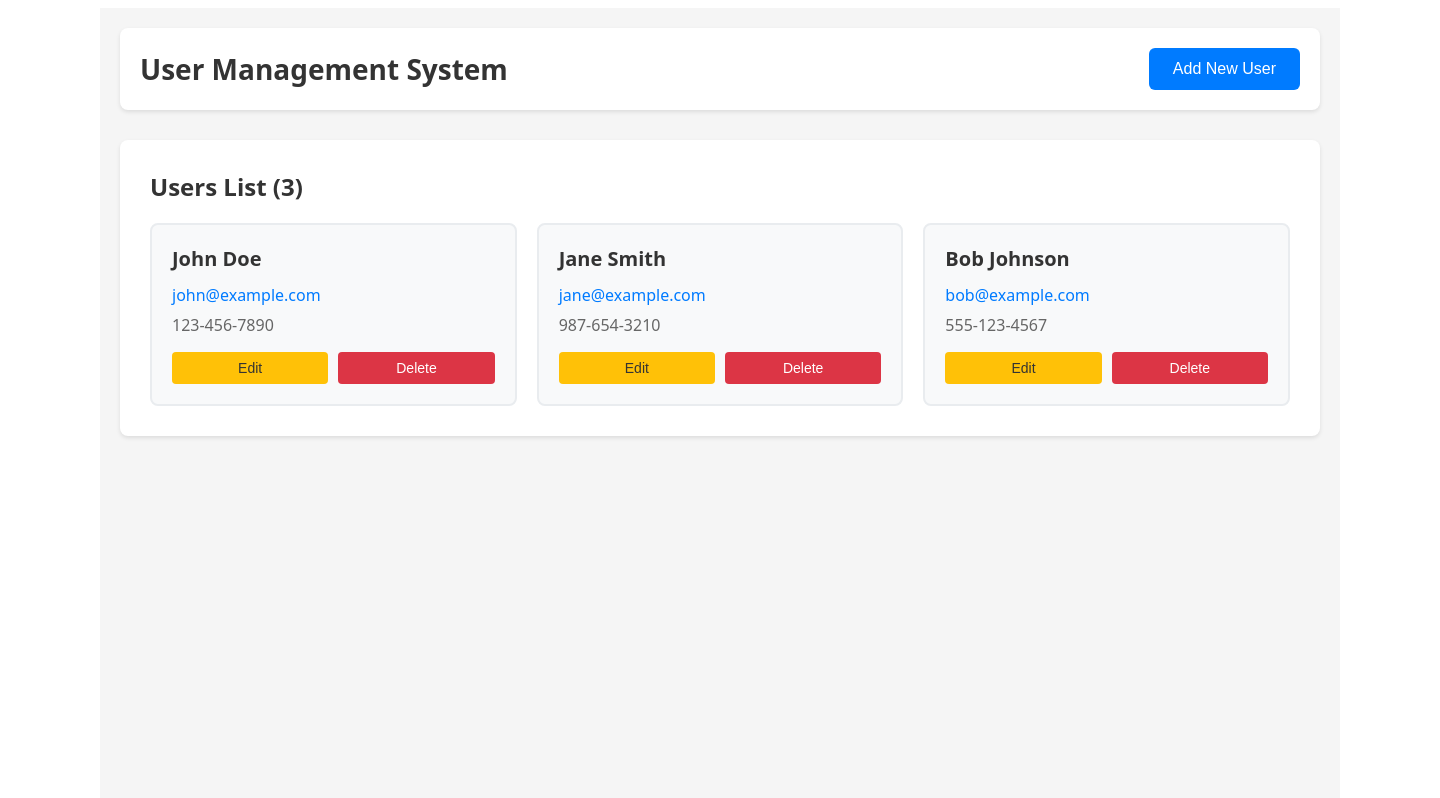
Scenario: Home Component › edits an existing user
The image size is (1440, 798).
Step 1. Click the button "Edit" below "123-456-7890" → (250, 368), box [172,352,328,384]
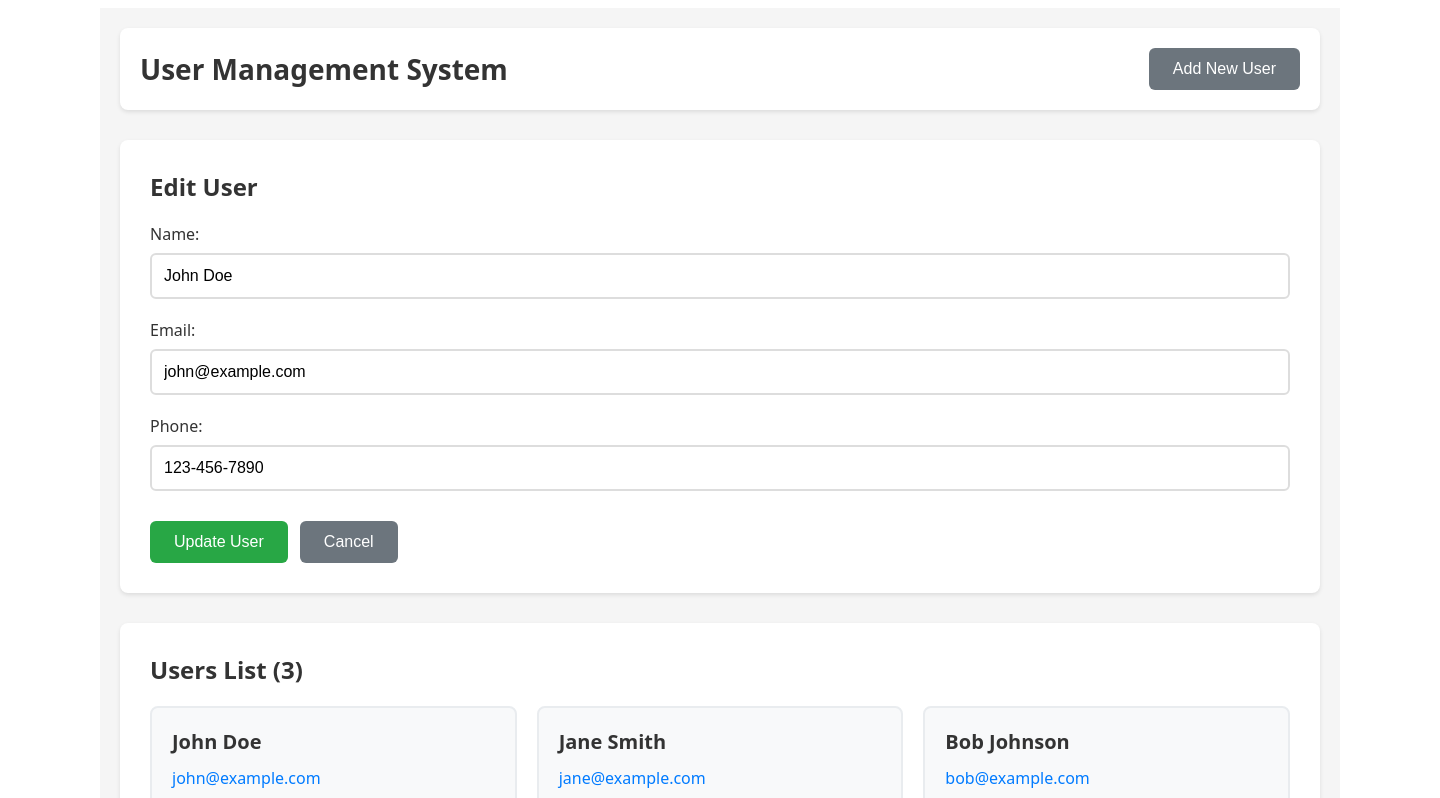
Result: the heading "Edit User" is shown at [150,170,258,203]
Step 2. Replace the text in the field labelled "Name:" with "John Updated" → (720, 276), box [150,253,1290,299]
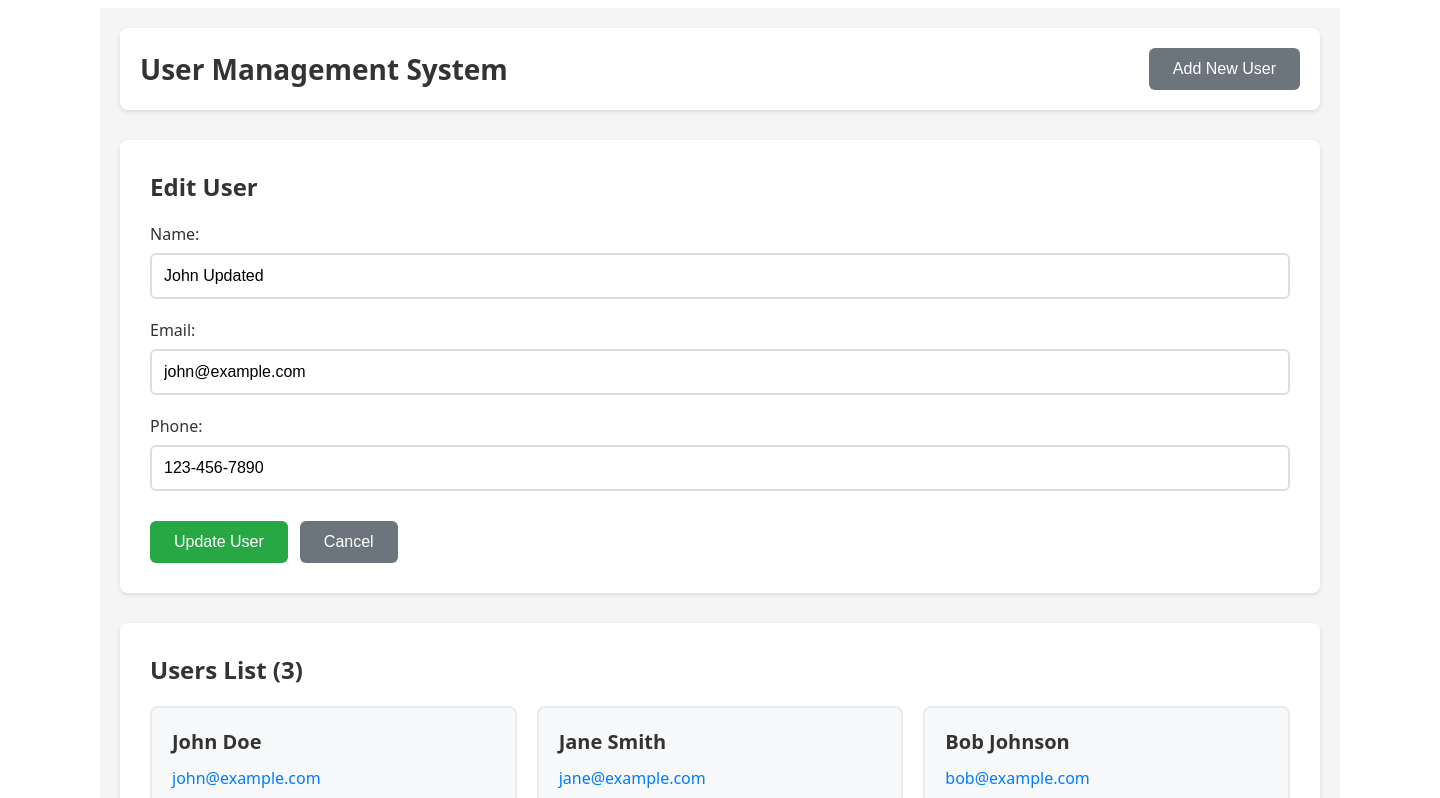
Step 3. Click the button "Update User" → (219, 542), box [150,521,288,563]
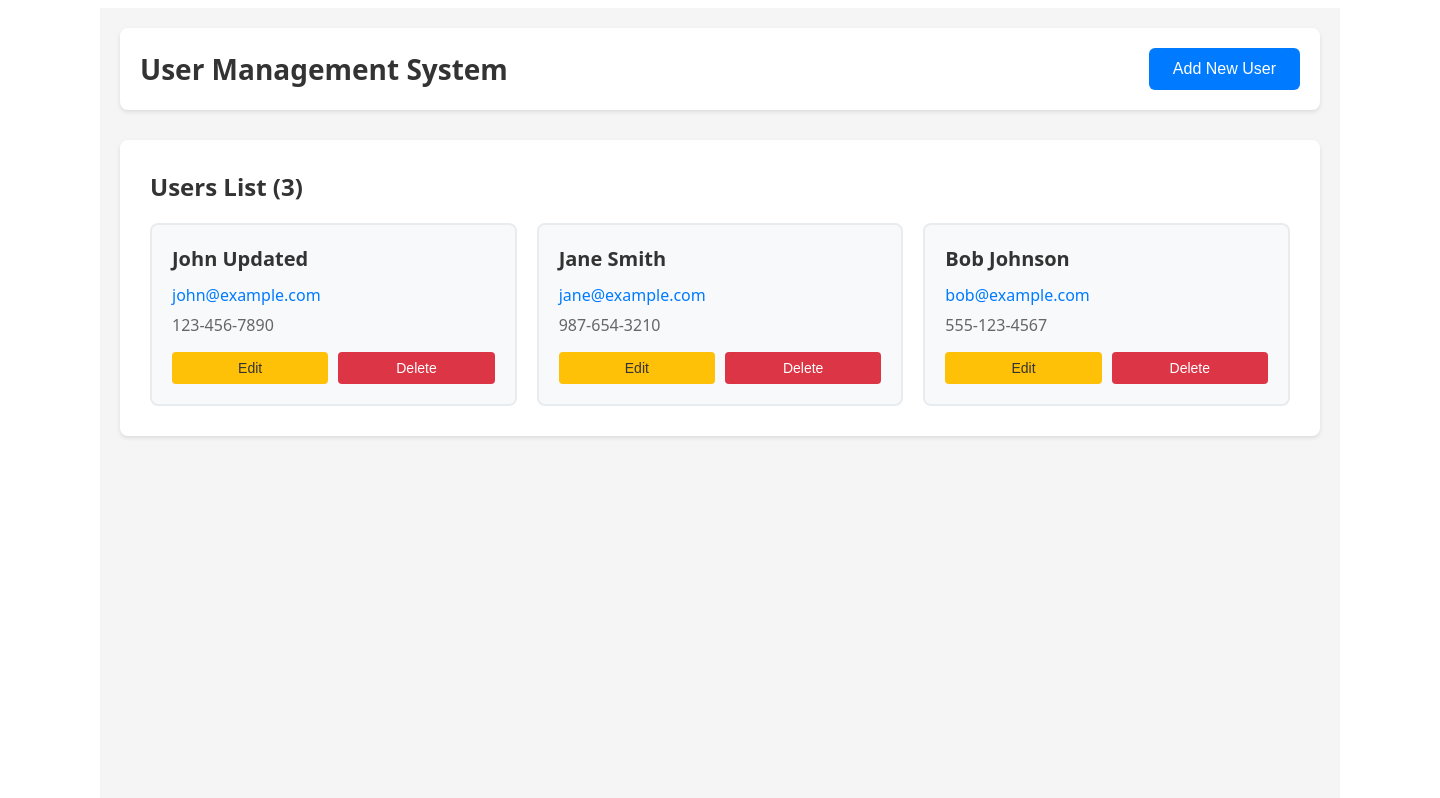
Result: the heading "John Updated" is shown at [172,245,308,272]
